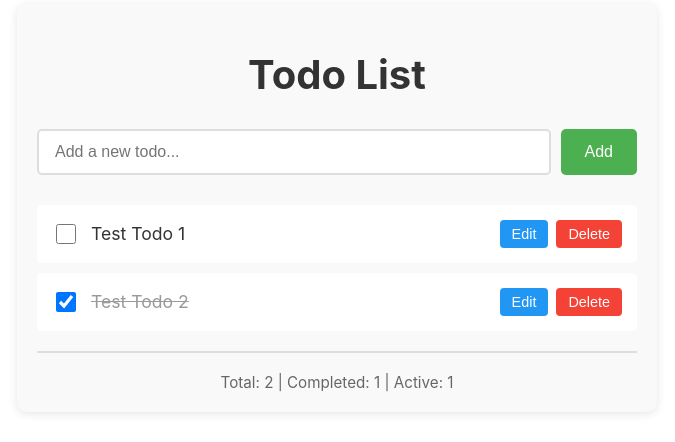
TodoList Component › starts editing a todo
This screenshot has width=675, height=442.
Expected: the text "Test Todo 1" is shown, [91,223,185,244]
Click the button "Edit" in the row of "Test Todo 1".
click(524, 234)  # box [500,220,548,248]
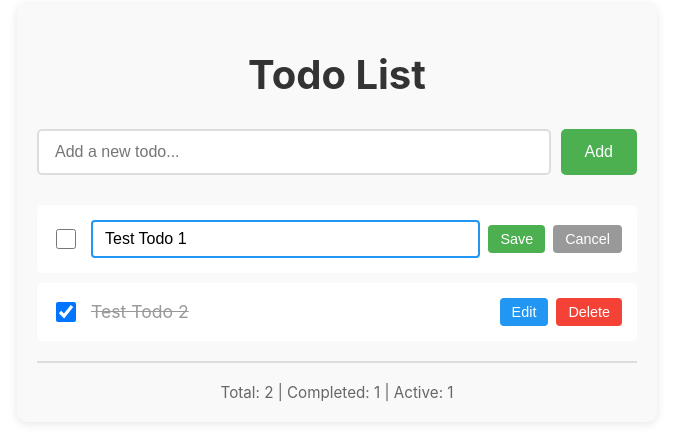
Result: the field showing "Test Todo 1" is shown at [91,220,480,258]
Result: the button "Save" is shown at [488,225,545,253]
Result: the button "Cancel" is shown at [553,225,622,253]
